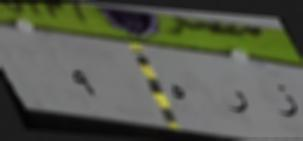9: (68, 65, 104, 100)
haa: (166, 76, 191, 106)
raa: (220, 83, 253, 118)
zay: (272, 79, 300, 122)
